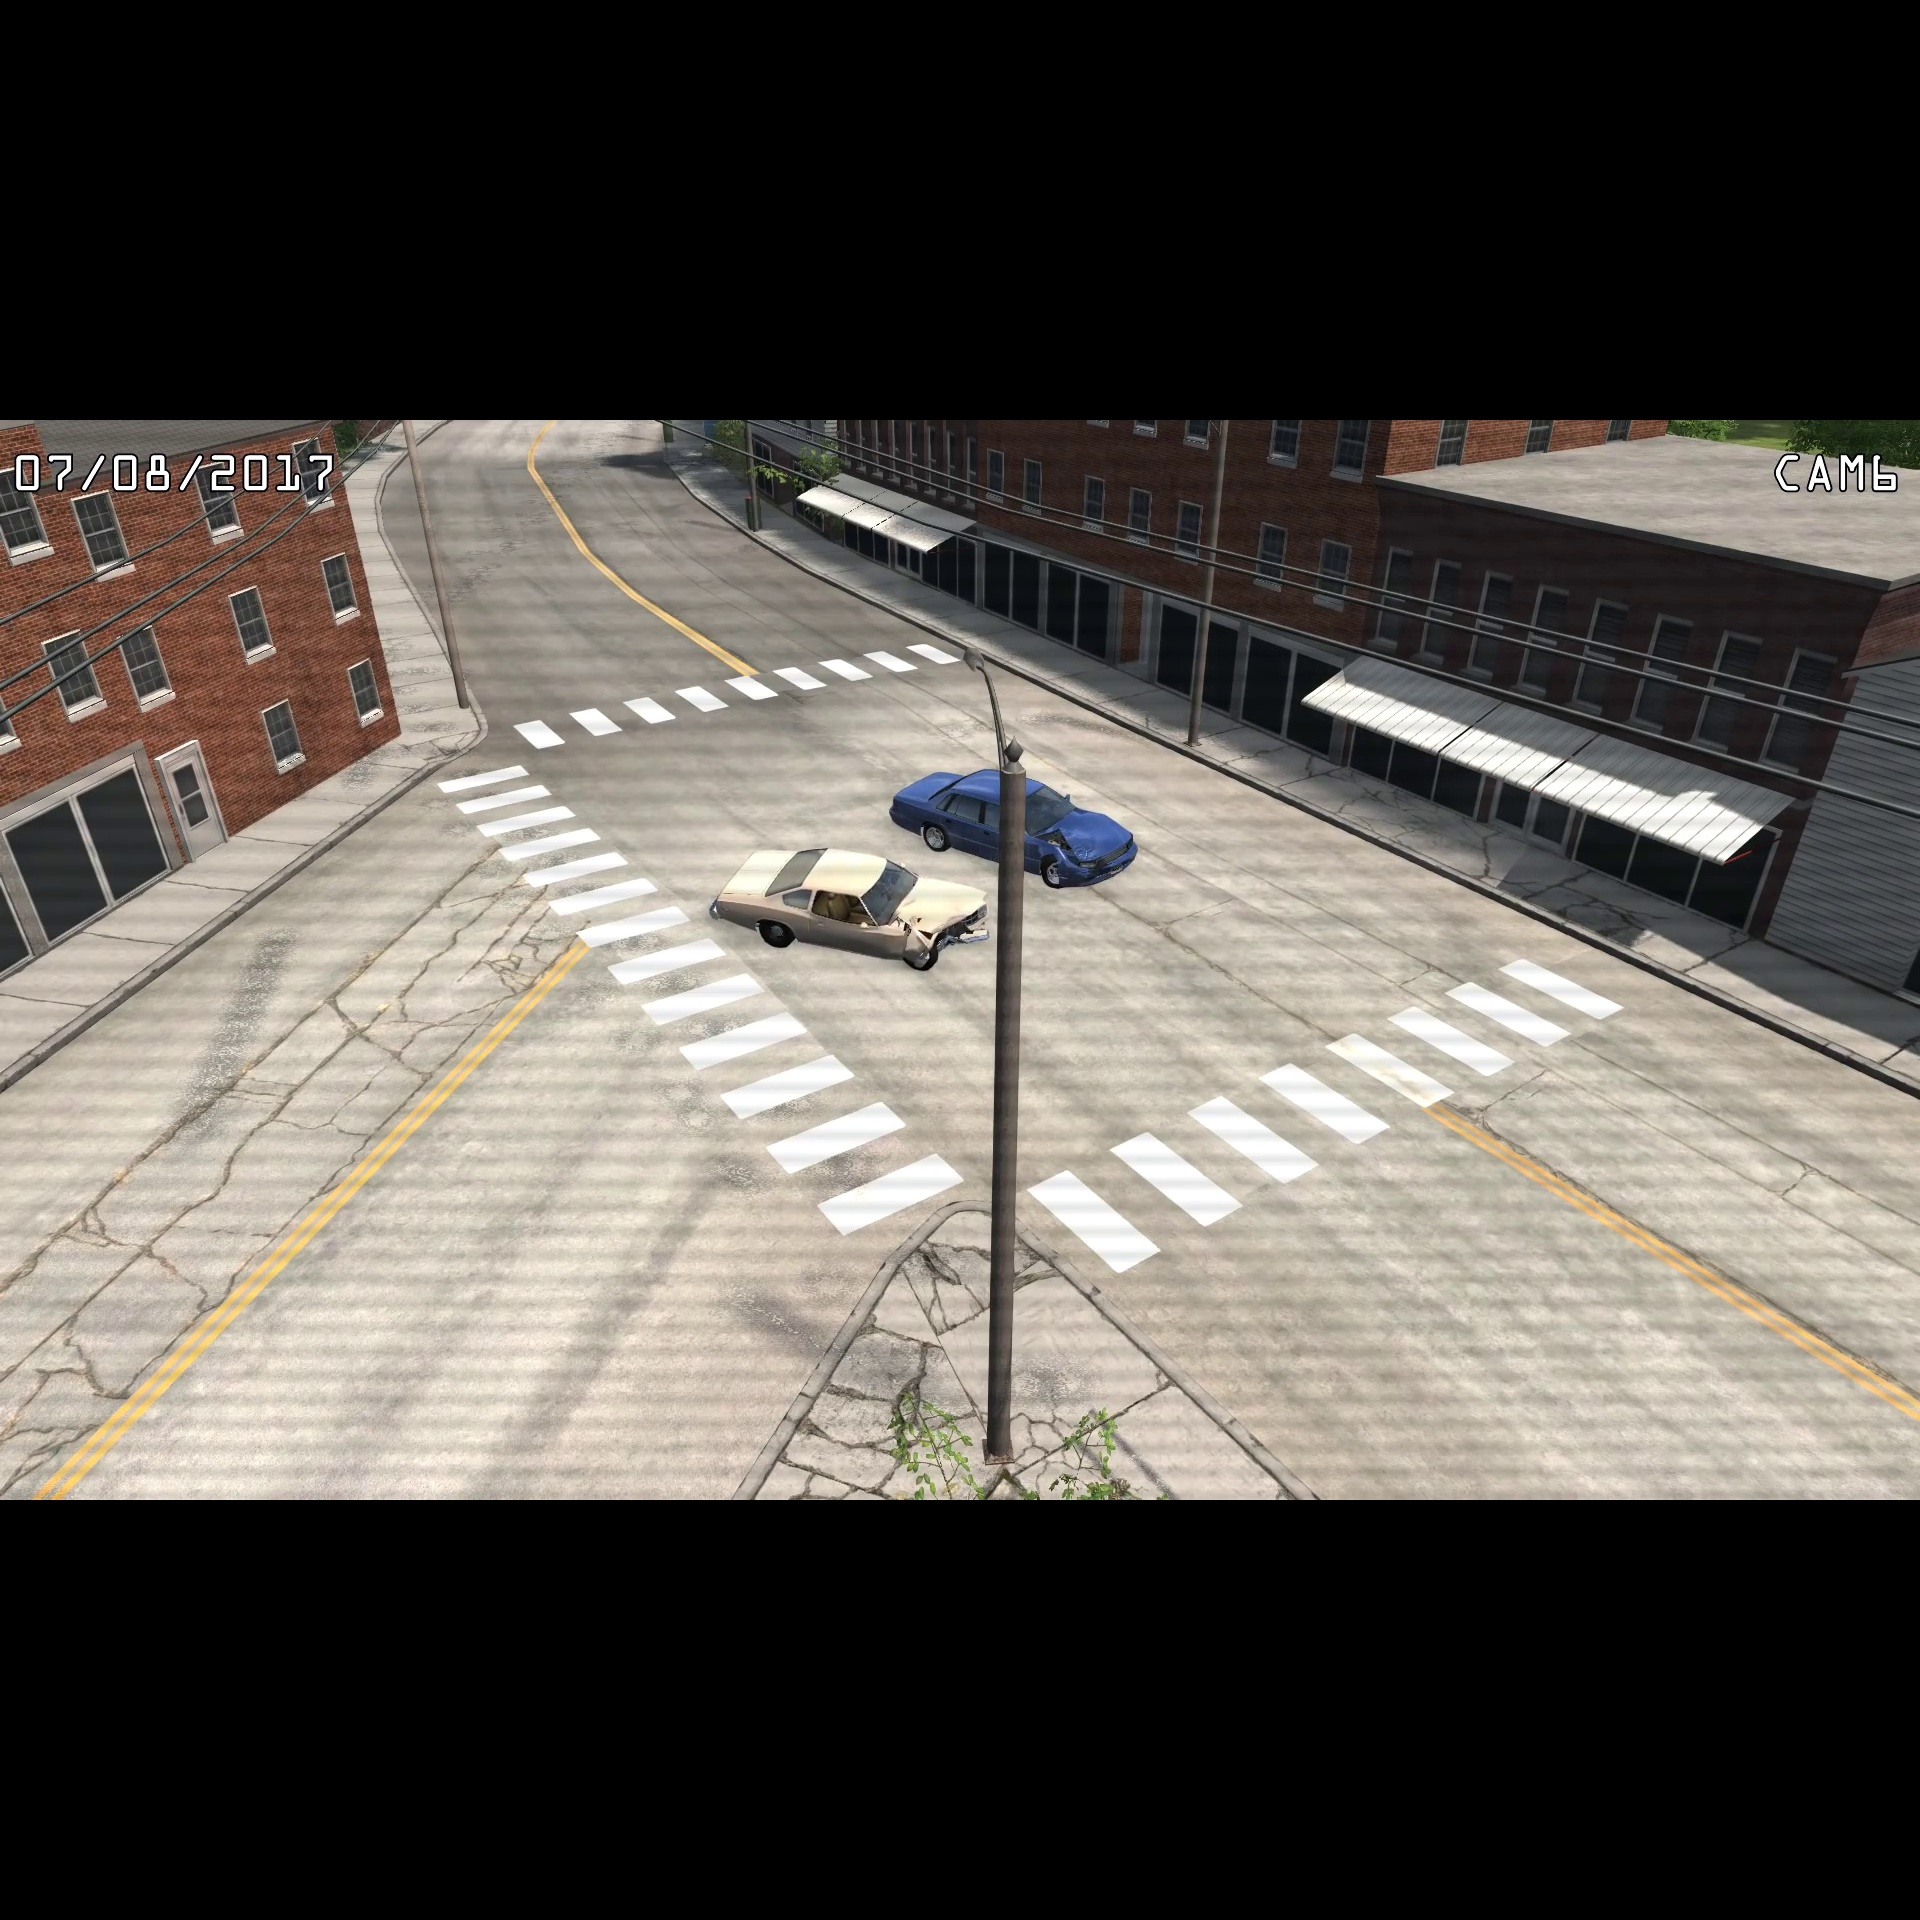vehicle: (703, 842, 995, 990), (884, 765, 1146, 898)
